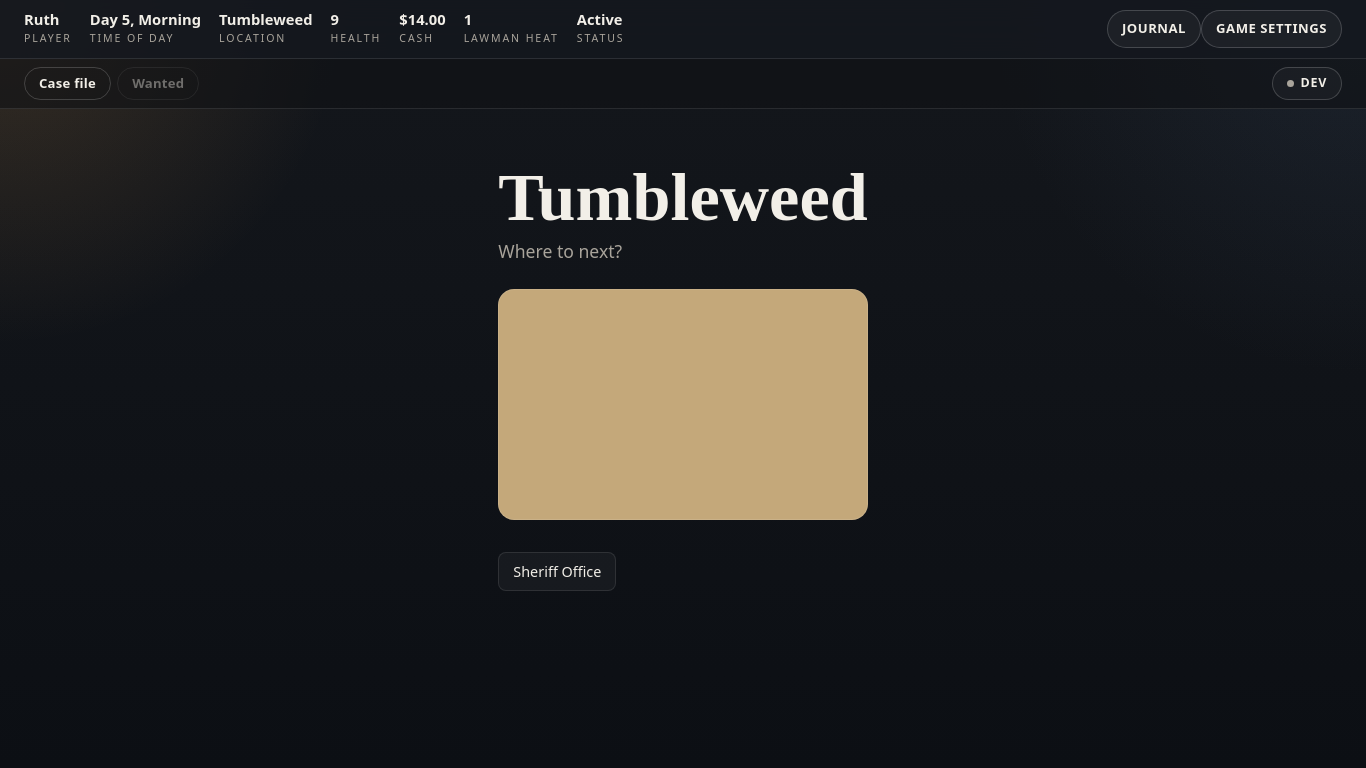
AppShell › closes the dev overlay when clicking the play surface outside the drawer
Expected: the header named "game status" is shown, [0, 0, 1365, 59]
Click the button "Dev" at (1307, 84), box [1272, 67, 1342, 100]
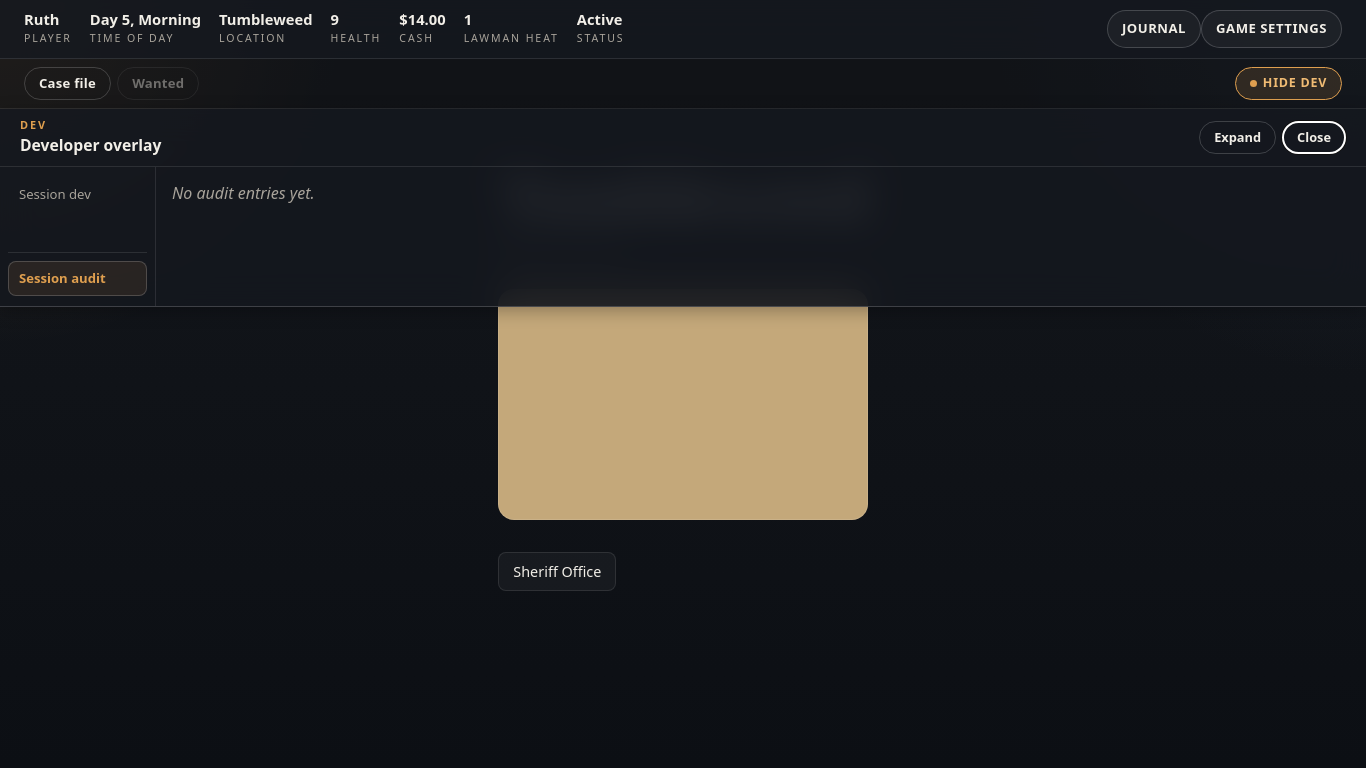
Expected: the element "Developer overlay" is shown, [0, 109, 1365, 307]
Click the element with test id "dev-click-away" at (683, 438), box [0, 109, 1365, 767]
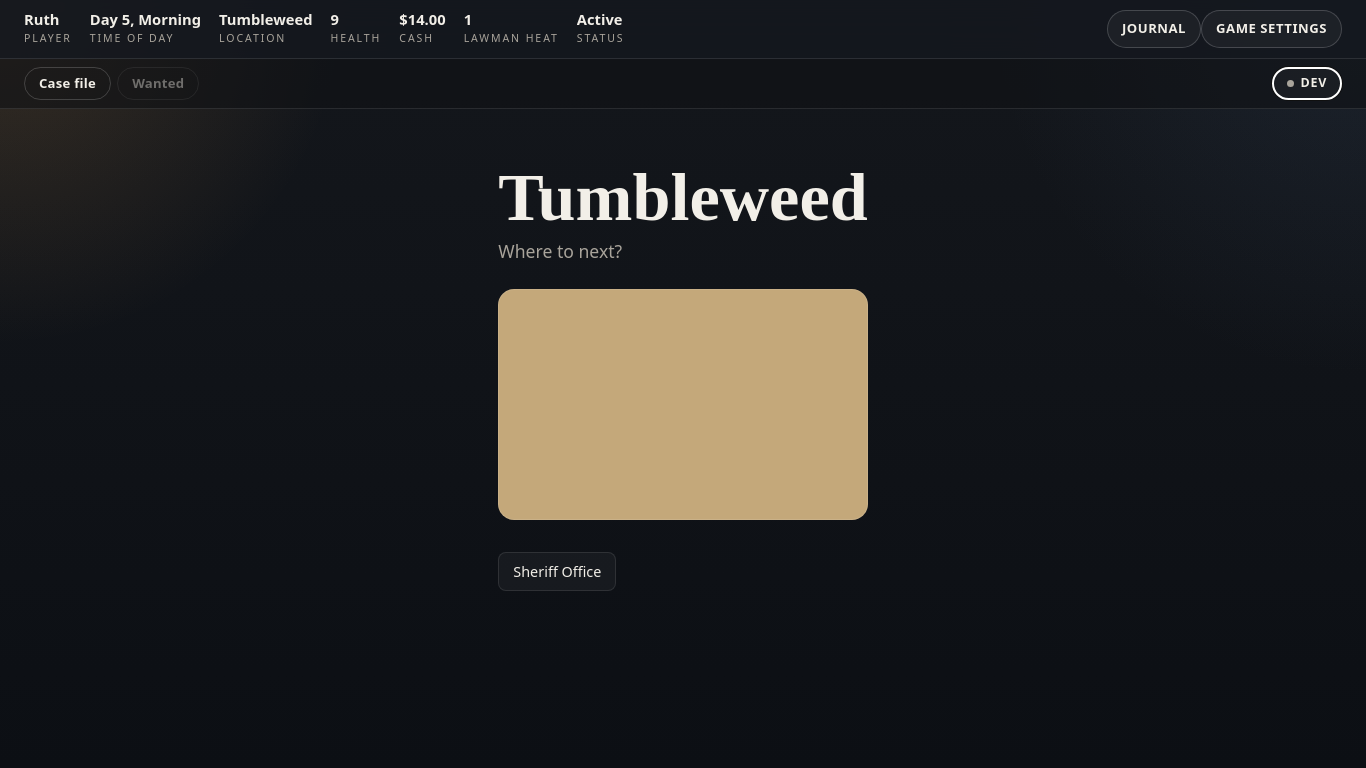
Expected: the heading "Developer overlay" is gone
